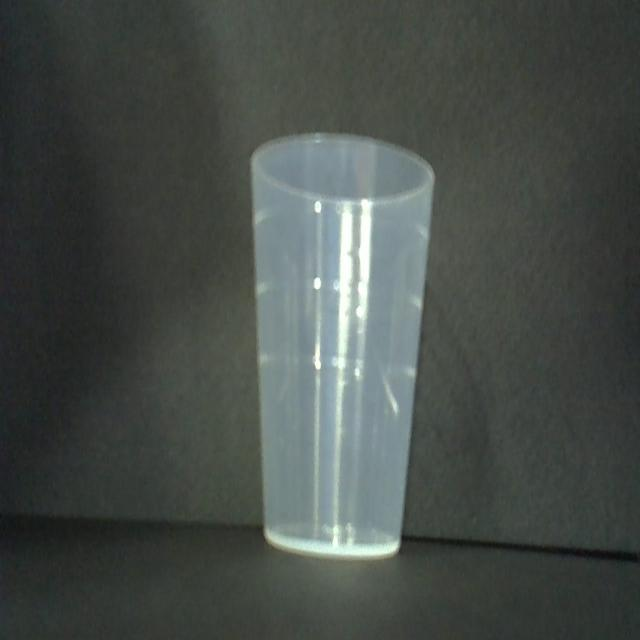cup: (247, 130, 440, 559)
